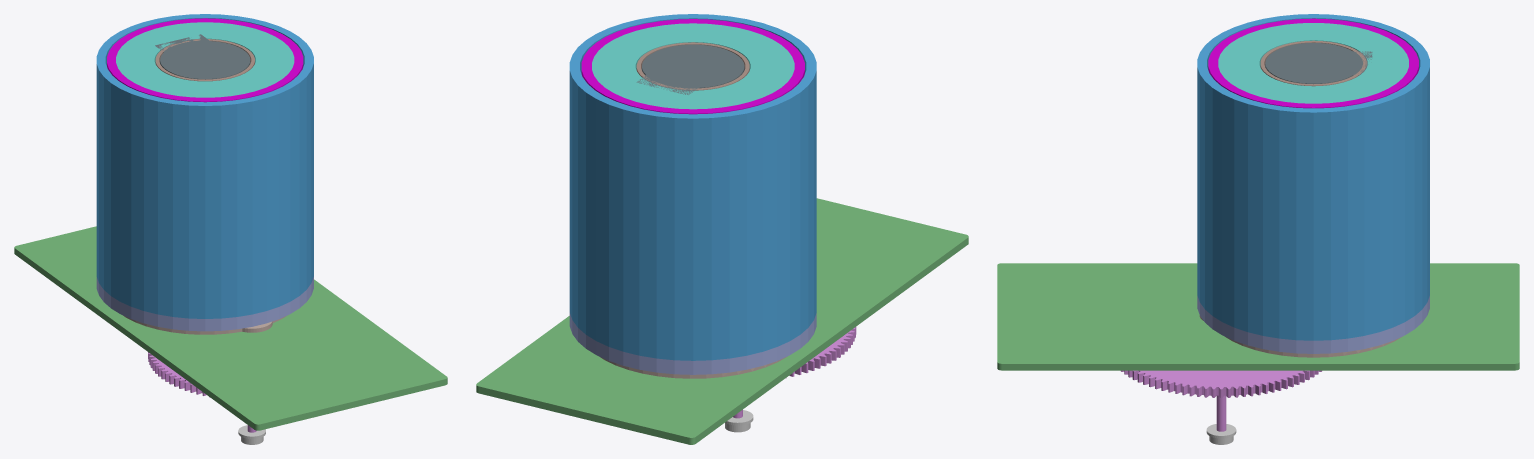
The model's file is knob-stack-v0.9.glb.
The picture shows the model from 3 angles, left to right: view 1: azimuth 30°, elevation 25°; view 2: azimuth 150°, elevation 25°; view 3: azimuth 270°, elevation 25°; orthographic projection. The views are drawn at different scales.
Visible parts, largest first — view 1: knob_body__cap_skirt_hub_rim, PCB, control_dial, TFT_glass, bottom_internal_ring, magnet_placeholder, encoder_big_gear, screen_holder, base_cradle; view 2: knob_body__cap_skirt_hub_rim, PCB, control_dial, TFT_glass, bottom_internal_ring, magnet_placeholder, encoder_big_gear, screen_holder, base_cradle; view 3: knob_body__cap_skirt_hub_rim, PCB, control_dial, encoder_big_gear, TFT_glass, bottom_internal_ring, magnet_placeholder, screen_holder, base_cradle.
Boxes of the visible parts, bbox=[...] form: knob_body__cap_skirt_hub_rim: bbox=[96, 14, 313, 318]; PCB: bbox=[14, 226, 447, 430]; control_dial: bbox=[116, 22, 294, 97]; TFT_glass: bbox=[155, 34, 250, 79]; bottom_internal_ring: bbox=[96, 277, 313, 331]; magnet_placeholder: bbox=[107, 18, 303, 102]; encoder_big_gear: bbox=[148, 352, 209, 397]; screen_holder: bbox=[155, 39, 254, 81]; base_cradle: bbox=[123, 315, 286, 334]; knob_body__cap_skirt_hub_rim: bbox=[569, 14, 816, 360]; PCB: bbox=[476, 198, 968, 444]; control_dial: bbox=[592, 23, 794, 109]; TFT_glass: bbox=[636, 44, 744, 94]; bottom_internal_ring: bbox=[569, 313, 816, 374]; magnet_placeholder: bbox=[581, 19, 804, 114]; encoder_big_gear: bbox=[786, 327, 856, 378]; screen_holder: bbox=[636, 42, 749, 90]; base_cradle: bbox=[599, 356, 787, 378]; knob_body__cap_skirt_hub_rim: bbox=[1197, 14, 1429, 340]; PCB: bbox=[997, 263, 1519, 370]; control_dial: bbox=[1218, 23, 1408, 103]; encoder_big_gear: bbox=[1121, 370, 1321, 397]; TFT_glass: bbox=[1265, 43, 1372, 84]; bottom_internal_ring: bbox=[1197, 296, 1429, 353]; magnet_placeholder: bbox=[1208, 18, 1418, 108]; screen_holder: bbox=[1260, 40, 1366, 86]; base_cradle: bbox=[1199, 315, 1402, 357].
Size of the model in its own units: 0.049 by 0.085 by 0.1075.
